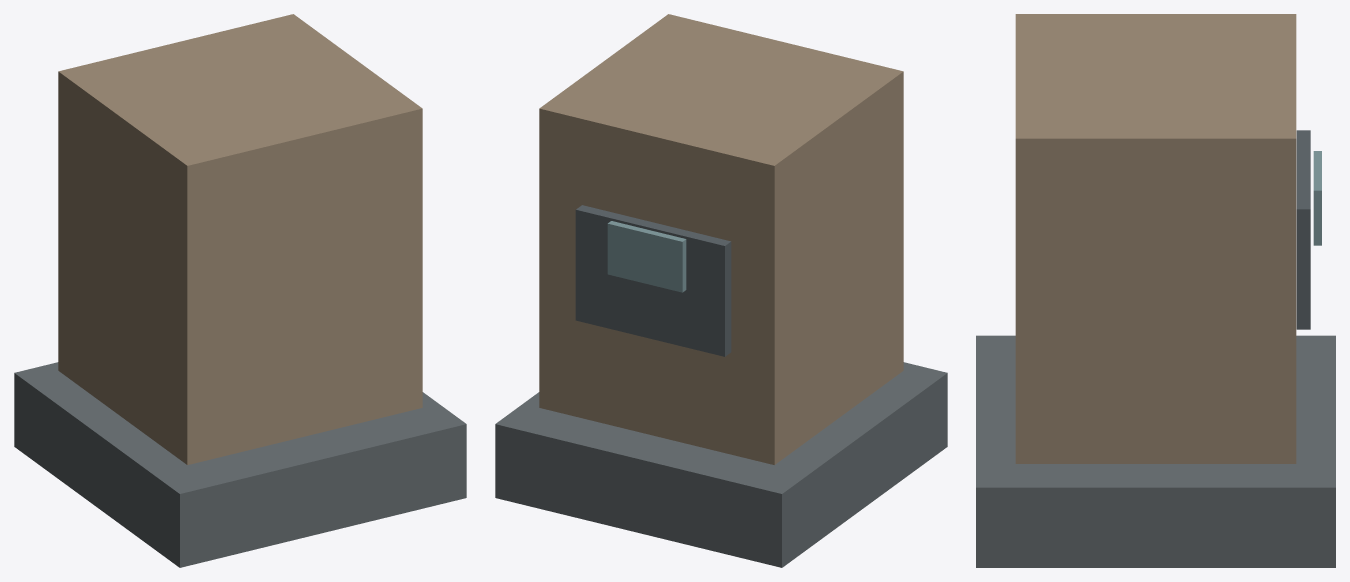
Rendered from iz3_production_collector_02.glb.
3 renders of one model, left to right at view 1: azimuth 30°, elevation 25°; view 2: azimuth 150°, elevation 25°; view 3: azimuth 270°, elevation 25°, orthographic. The views are drawn at different scales.
Visible parts, largest first — view 1: cabinet, base; view 2: cabinet, base, panel, display; view 3: cabinet, base, panel, display.
Part boxes in pixels (x1=…): cabinet: x1=58, y1=14, x2=422, y2=464; base: x1=14, y1=362, x2=466, y2=567; cabinet: x1=539, y1=14, x2=903, y2=464; base: x1=495, y1=362, x2=947, y2=567; panel: x1=575, y1=205, x2=731, y2=356; display: x1=607, y1=221, x2=686, y2=292; cabinet: x1=1015, y1=14, x2=1296, y2=463; base: x1=976, y1=335, x2=1335, y2=567; panel: x1=1296, y1=130, x2=1310, y2=329; display: x1=1313, y1=151, x2=1321, y2=245.
Size of the model in its own units: 1.3 by 1.66 by 1.3.
